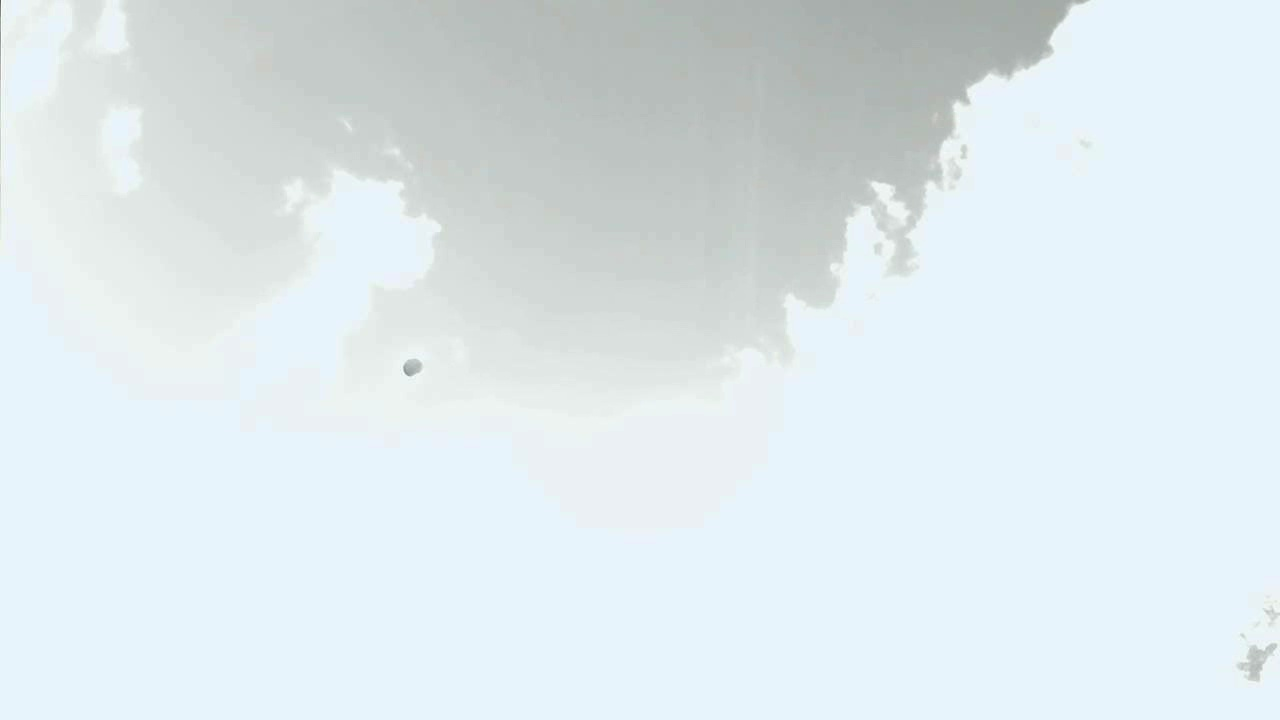Football-Spotter: (403, 358, 423, 376)
